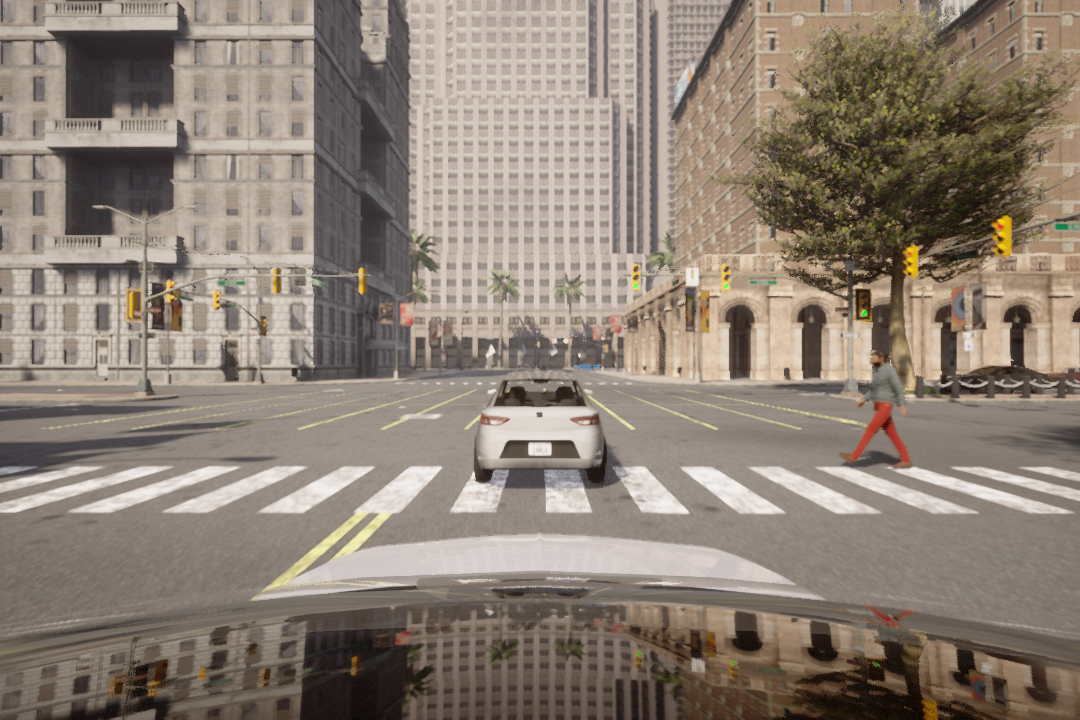TrafficLight: (991, 217, 1017, 260), (901, 245, 926, 284), (720, 264, 734, 293), (164, 280, 178, 307), (630, 264, 642, 291), (211, 287, 221, 310)
walkside: (1, 461, 1080, 520)
